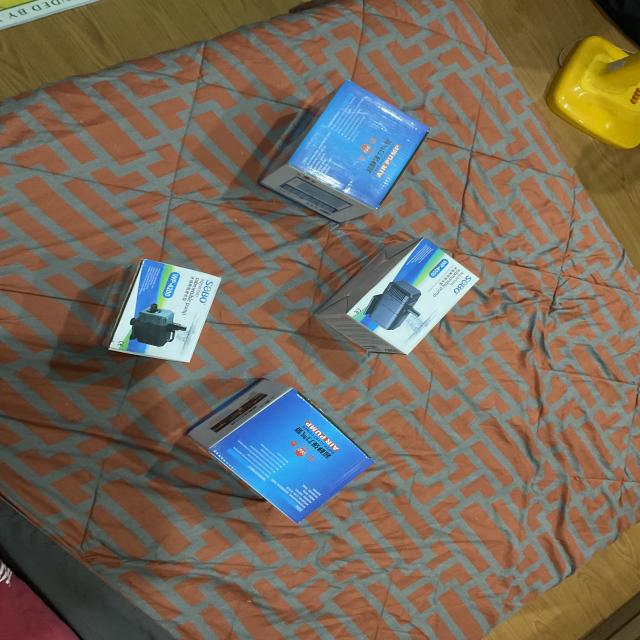SOBO_WP_4200: (304, 232, 488, 366), (97, 247, 231, 369)
YAMANO_LPP_20: (178, 378, 386, 534), (258, 72, 434, 230)
